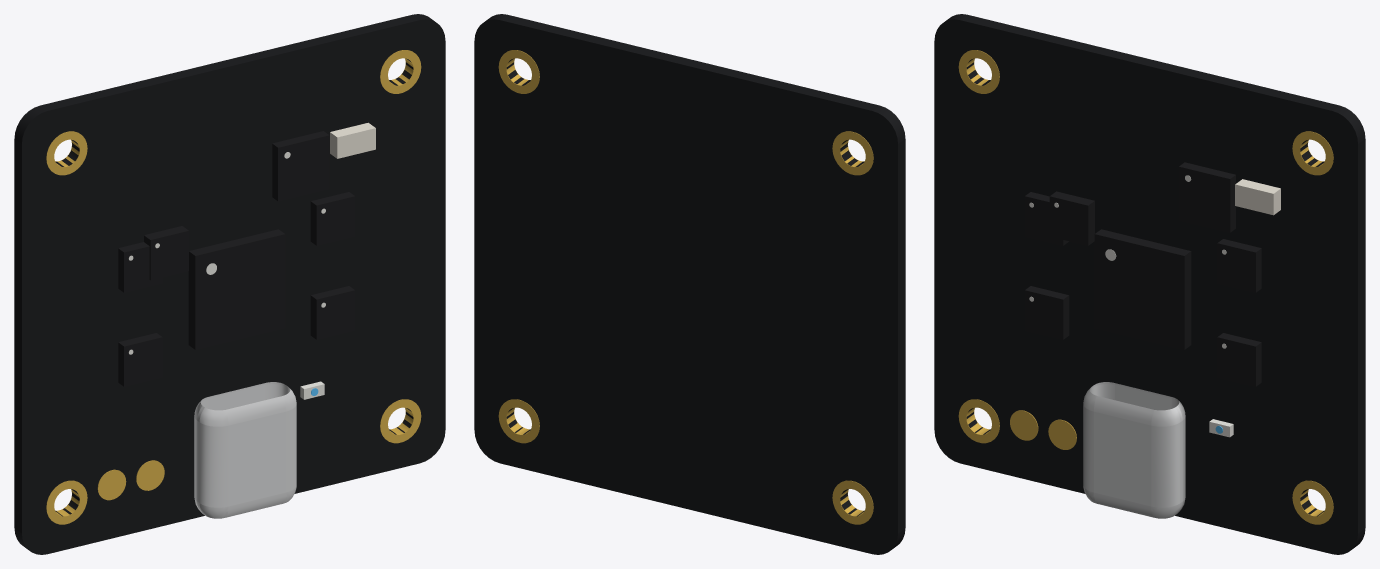
File: betafpv-toothpick-f405-20a.glb
The picture shows the model from 3 angles, left to right: view 1: azimuth 30°, elevation 25°; view 2: azimuth 150°, elevation 25°; view 3: azimuth 330°, elevation 25°; orthographic projection.
Parts seen in each view (by area): view 1: board, usb, mcu, receiver, esc_fet_1, esc_fet_4, esc_fet_3, gyro, esc_fet_2, rx_antenna, hole_4, hole_3 (+4 smaller); view 2: board, hole_4, hole_3, hole_1, hole_2; view 3: board, usb, mcu, receiver, gyro, esc_fet_4, esc_fet_1, esc_fet_3, rx_antenna, esc_fet_2, hole_3, hole_4 (+4 smaller).
Boxes of the visible parts, box(x1,y1,x2,y2) form: board: box(14, 14, 445, 554); usb: box(194, 382, 296, 518); mcu: box(188, 229, 285, 349); receiver: box(272, 131, 329, 201); esc_fet_1: box(310, 192, 354, 245); esc_fet_4: box(310, 286, 354, 339); esc_fet_3: box(118, 333, 162, 386); gyro: box(144, 226, 188, 280); esc_fet_2: box(118, 242, 162, 292); rx_antenna: box(330, 122, 375, 158); hole_4: box(380, 399, 421, 443); hole_3: box(46, 480, 87, 524); board: box(474, 14, 905, 554); hole_4: box(498, 399, 539, 443); hole_3: box(832, 480, 873, 524); hole_1: box(498, 50, 539, 93); hole_2: box(832, 131, 873, 175); board: box(934, 14, 1365, 554); usb: box(1083, 382, 1185, 518); mcu: box(1094, 229, 1191, 349); receiver: box(1179, 162, 1235, 232); gyro: box(1049, 191, 1094, 245); esc_fet_4: box(1217, 333, 1261, 386); esc_fet_1: box(1217, 239, 1261, 292); esc_fet_3: box(1025, 286, 1069, 339); rx_antenna: box(1235, 179, 1280, 215); esc_fet_2: box(1025, 192, 1068, 245); hole_3: box(958, 399, 999, 443); hole_4: box(1292, 480, 1333, 524).
Size of the model in its own units: 33 by 33 by 4.23.
